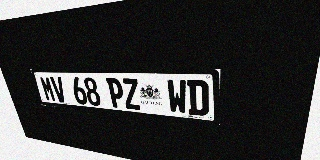6: (70, 77, 89, 105)
8: (83, 77, 102, 106)
D: (187, 80, 209, 116)
M: (39, 76, 57, 102)
P: (106, 78, 126, 108)
V: (50, 76, 68, 103)
W: (166, 79, 188, 114)
Z: (121, 78, 141, 110)
